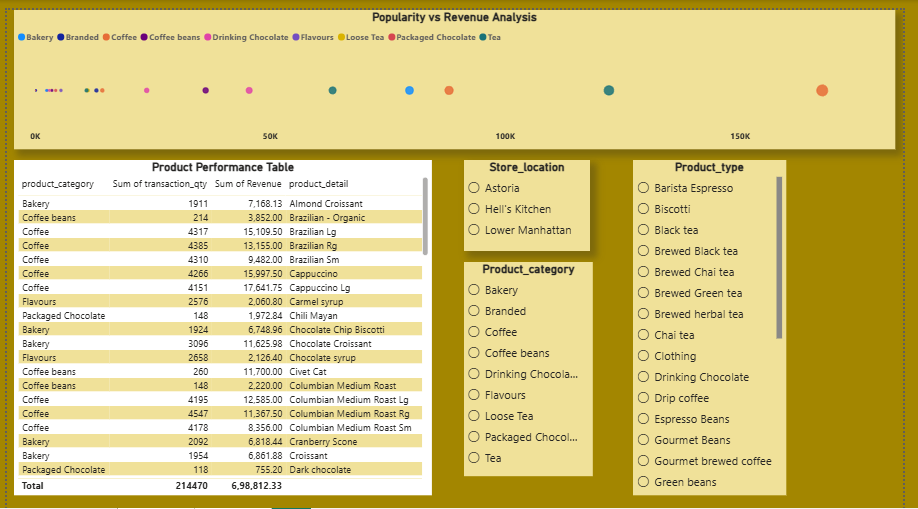

Layout of this report page (visuals, bound fields, positions):
{"tool":"powerbi","page":{"name":"Page 2","canvas":[1280,720],"ordinal":1},"visuals":[{"type":"scatterChart","title":"Popularity vs Revenue Analysis","fields":{"Category":["coffee_cleaned_data.transaction_qty"],"X":["Sum(coffee_cleaned_data.Revenue)"],"Series":["coffee_cleaned_data.product_category"],"Size":["Sum(coffee_cleaned_data.Revenue)"]},"box":[10.1,0,1258.6,198.7],"z":0},{"type":"tableEx","title":"Product Performance Table","fields":{"Values":["coffee_cleaned_data.product_category","Sum(coffee_cleaned_data.transaction_qty)","Sum(coffee_cleaned_data.Revenue)","coffee_cleaned_data.product_detail"]},"box":[10,214.3,597.1,478.6],"z":1000},{"type":"listSlicer","title":"Store_location","fields":{"Values":["coffee_cleaned_data.store_location"]},"box":[652.9,214.3,180,130],"z":2000},{"type":"listSlicer","title":"Product_category","fields":{"Values":["coffee_cleaned_data.product_category"]},"box":[652.9,360,184.3,305.7],"z":3000},{"type":"listSlicer","title":"Product_type","fields":{"Values":["coffee_cleaned_data.product_type"]},"box":[894.3,214.3,218.6,478.6],"z":4000}]}

Visuals, with their boxes in screenshot pixels (x1, y1, x2, y2), scaled from the page's 1280x720 canvas onto the 918x509 screenshot:
"Popularity vs Revenue Analysis" scatterChart: 7:0:910:140
"Product Performance Table" tableEx: 7:151:435:490
"Store_location" listSlicer: 468:151:597:243
"Product_category" listSlicer: 468:255:600:471
"Product_type" listSlicer: 641:151:798:490
